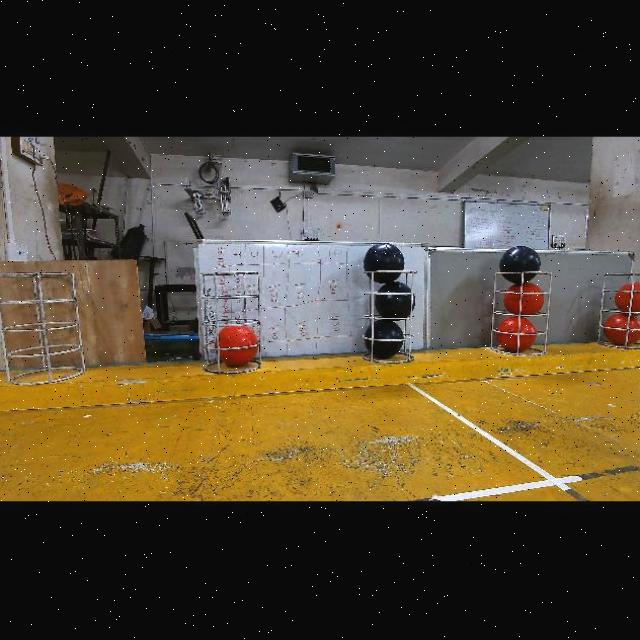P: (363, 242, 404, 284), (364, 319, 404, 359), (499, 246, 541, 284), (374, 281, 416, 318)
R: (219, 325, 259, 367), (497, 316, 537, 352), (503, 282, 544, 314), (604, 313, 640, 344), (614, 281, 640, 311)
S: (0, 262, 82, 388), (198, 269, 270, 376), (362, 266, 420, 358), (492, 271, 554, 355), (602, 273, 640, 343)
